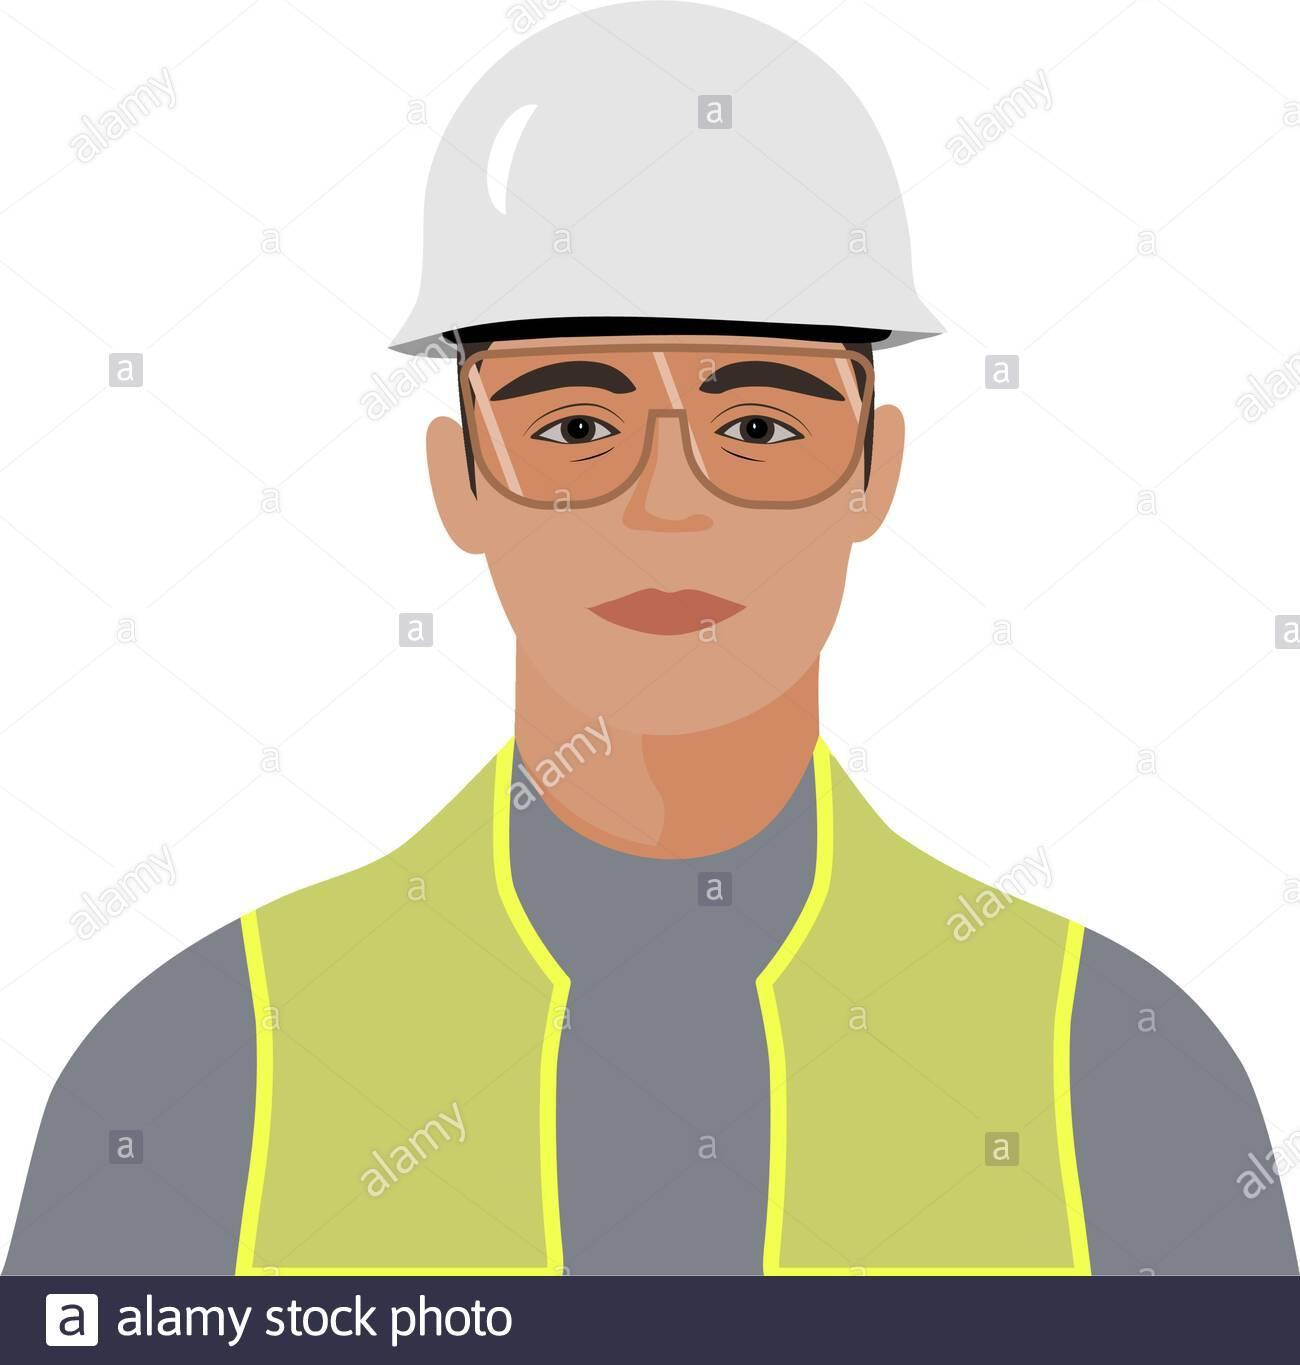hardhat: (396, 1, 954, 355)
worker: (1, 5, 1298, 1284)
